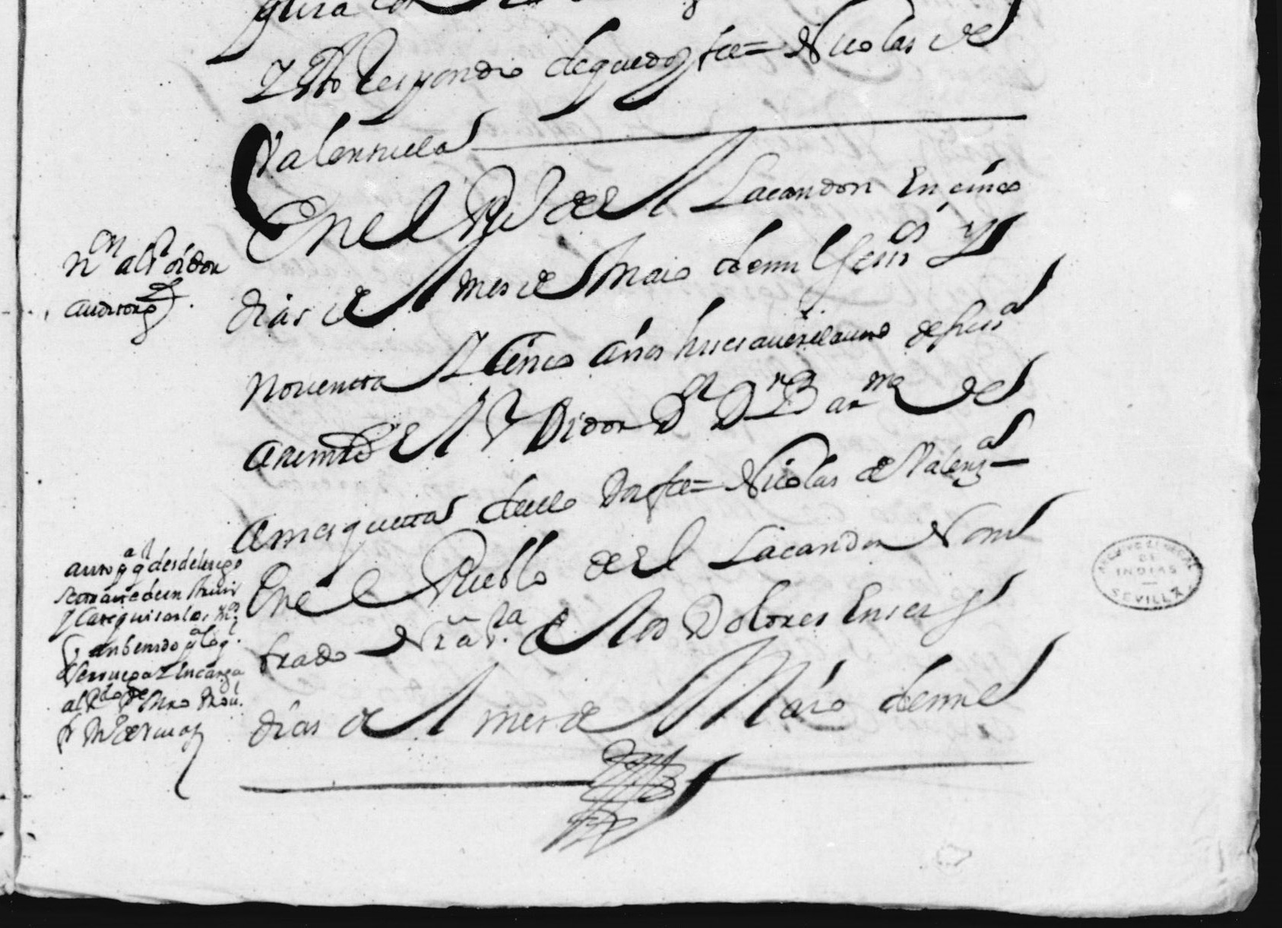lacandon: (689, 153, 871, 212), (707, 524, 923, 569)
